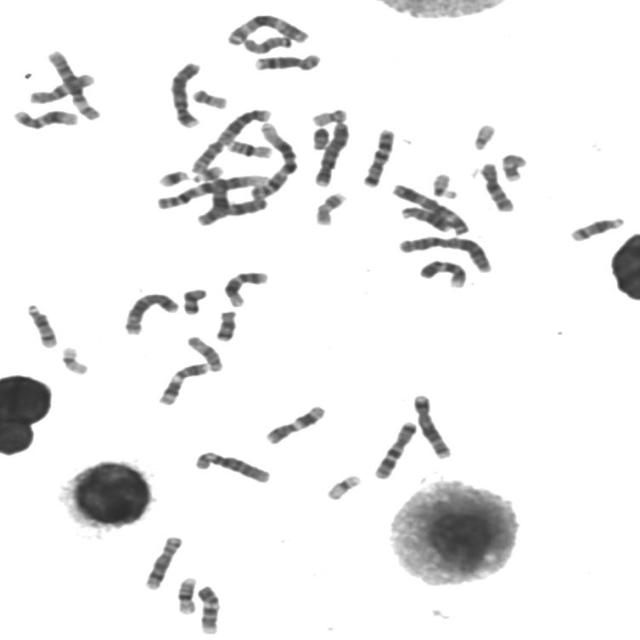A1: (154, 171, 272, 211), (246, 118, 300, 200)
A2: (187, 105, 273, 175), (393, 232, 496, 274)
A3: (388, 180, 473, 237), (222, 11, 312, 47)
B4: (310, 118, 351, 188), (167, 59, 204, 129)
B5: (409, 391, 454, 460), (120, 289, 181, 336)
C10: (25, 69, 97, 105), (476, 159, 517, 214)
C11: (262, 402, 328, 446), (154, 358, 210, 407)
C12: (220, 268, 270, 308), (8, 105, 80, 130)
C6: (43, 47, 103, 121), (191, 447, 273, 485)
C7: (370, 417, 419, 481), (358, 124, 397, 188)
C8: (140, 532, 185, 591), (250, 50, 324, 73)
C9: (415, 256, 469, 289), (194, 583, 222, 636)
D13: (398, 203, 452, 233), (219, 195, 281, 217)
D14: (22, 300, 60, 349), (566, 214, 627, 243)
D15: (183, 332, 225, 373), (239, 32, 294, 54)
E16: (222, 136, 275, 159), (172, 574, 200, 616)
E17: (311, 189, 349, 227), (498, 150, 529, 182)
E18: (212, 307, 240, 342), (178, 285, 209, 316)
F19: (322, 471, 364, 501), (58, 343, 91, 376)
F20: (189, 86, 229, 110), (308, 105, 349, 127)
G21: (154, 166, 192, 188), (189, 163, 225, 183)
G22: (428, 170, 459, 200), (469, 120, 498, 152)
X: (193, 170, 231, 227)
Y: (308, 124, 331, 150)
